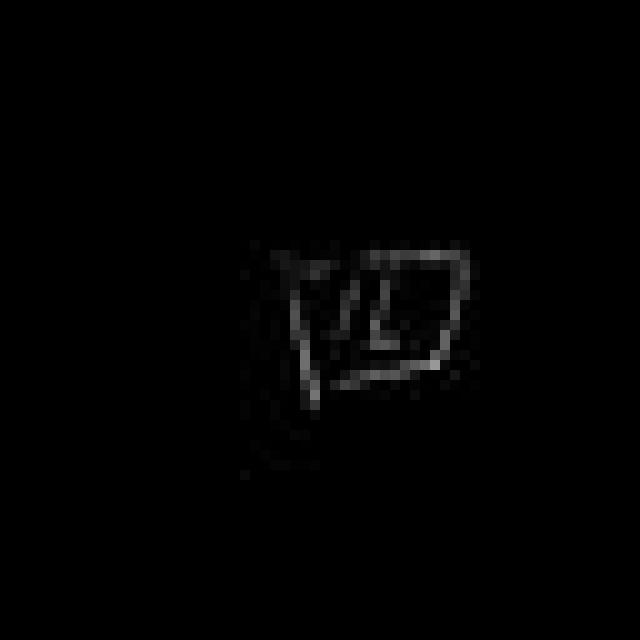4 -four-: (276, 235, 479, 412)
